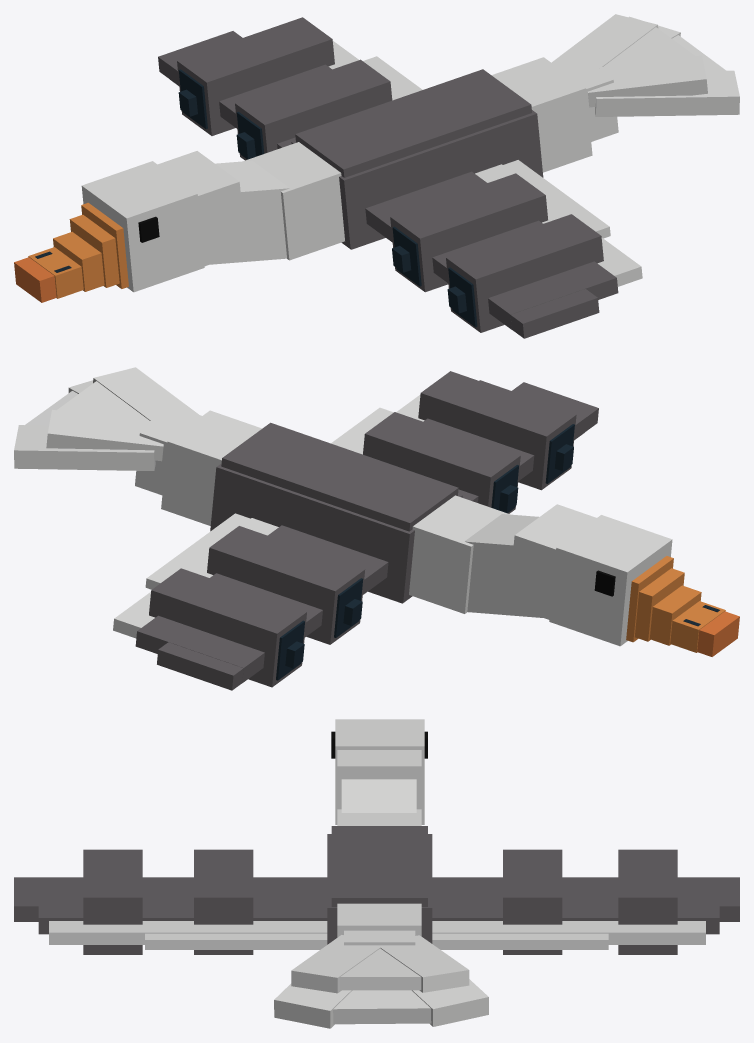
The model's file is Bombombini_Gussini.fbx.
The picture shows the model from 3 angles, top to bottom: view 1: azimuth 30°, elevation 25°; view 2: azimuth 150°, elevation 25°; view 3: azimuth 270°, elevation 25°; orthographic projection.
Visible parts, largest first — view 1: Bombombini_Gussini; view 2: Bombombini_Gussini; view 3: Bombombini_Gussini.
Boxes of the visible parts, <box> form: Bombombini_Gussini: <box>14,14,739,338</box>; Bombombini_Gussini: <box>14,367,739,690</box>; Bombombini_Gussini: <box>14,719,739,1028</box>.
Size of the model in its own units: 1654 by 245 by 1532.
